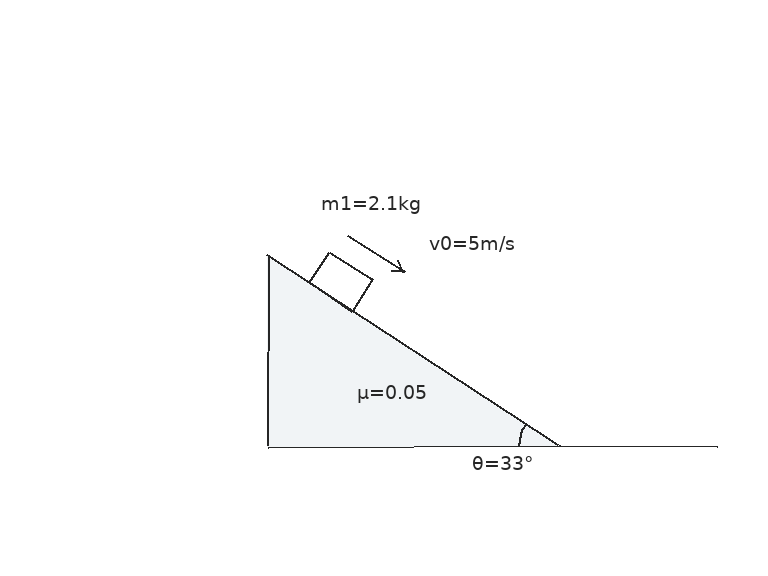block: (307, 250, 374, 313)
ramp: (265, 254, 561, 448)
